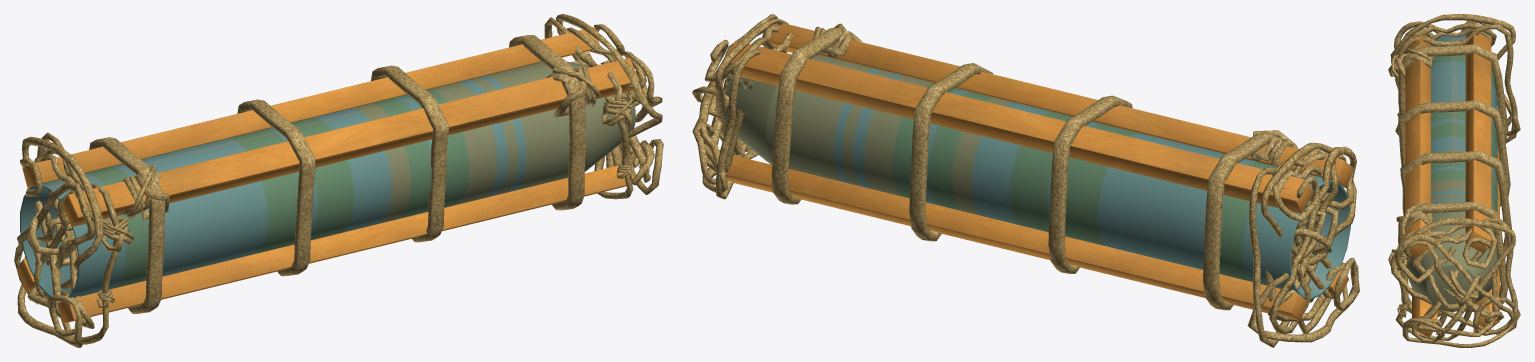
Rendered from bowlbundle.glb.
The picture shows the model from 3 angles, left to right: view 1: azimuth 30°, elevation 25°; view 2: azimuth 150°, elevation 25°; view 3: azimuth 270°, elevation 25°; orthographic projection. The views are drawn at different scales.
Parts seen in each view (by area): view 1: SM_Mado_Bowlbundle; view 2: SM_Mado_Bowlbundle; view 3: SM_Mado_Bowlbundle.
Boxes of the visible parts, left/top/right/bottom form: SM_Mado_Bowlbundle: left=14, top=14, right=663, bottom=347; SM_Mado_Bowlbundle: left=692, top=14, right=1359, bottom=347; SM_Mado_Bowlbundle: left=1388, top=14, right=1520, bottom=347.
Bounding box in the file's own units: 0.9358 × 0.2697 × 0.226.
1 material, 1 textured.
